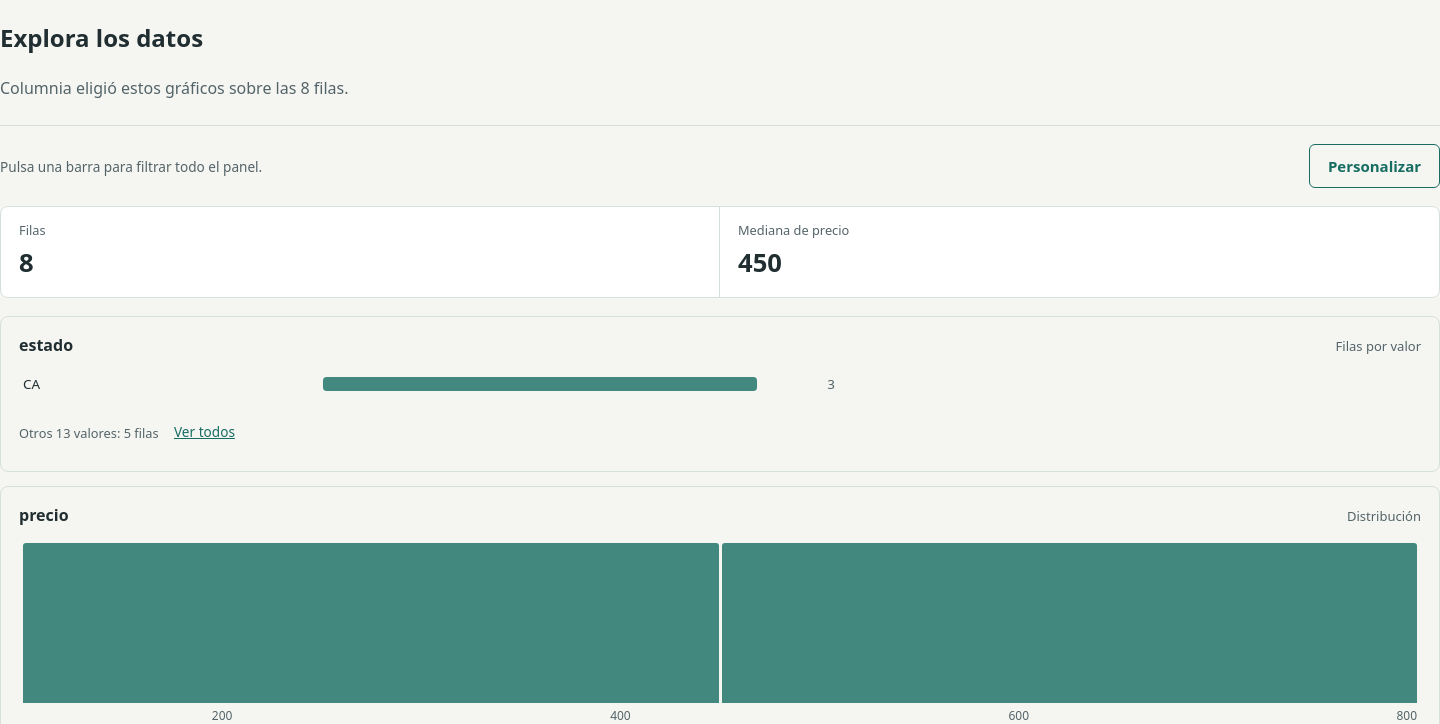
ExplorePhase › lets the person choose the charts and go back to the automatic panel
The image size is (1440, 724).
Check: the text "Columnia eligió estos gráficos sobre las 8 filas." is shown, box [0,76,348,101]
Click the button "Personalizar": (1374,166) [1309,144,1439,188]
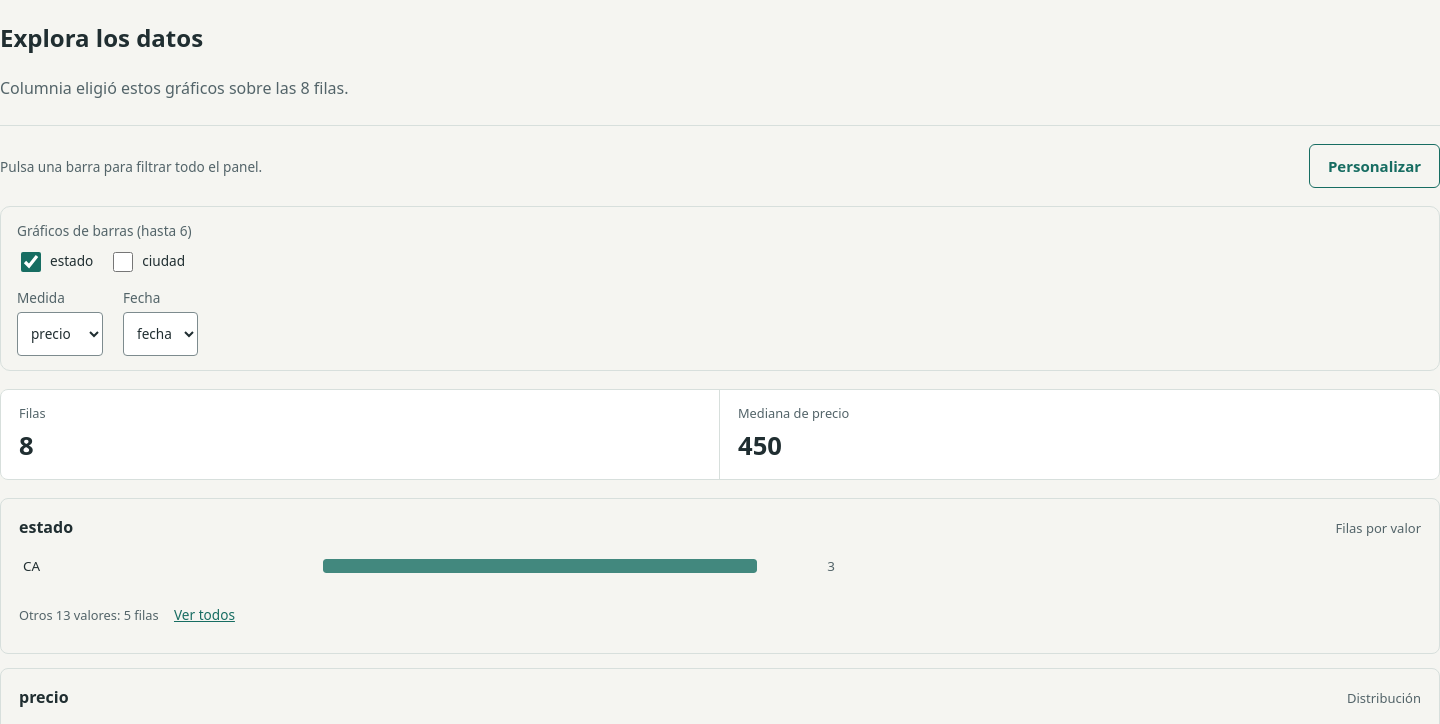
Check: the checkbox labelled "estado" is checked, box [21,252,41,272]
Click the checkbox labelled "ciudad": (123,262) [113,252,133,272]
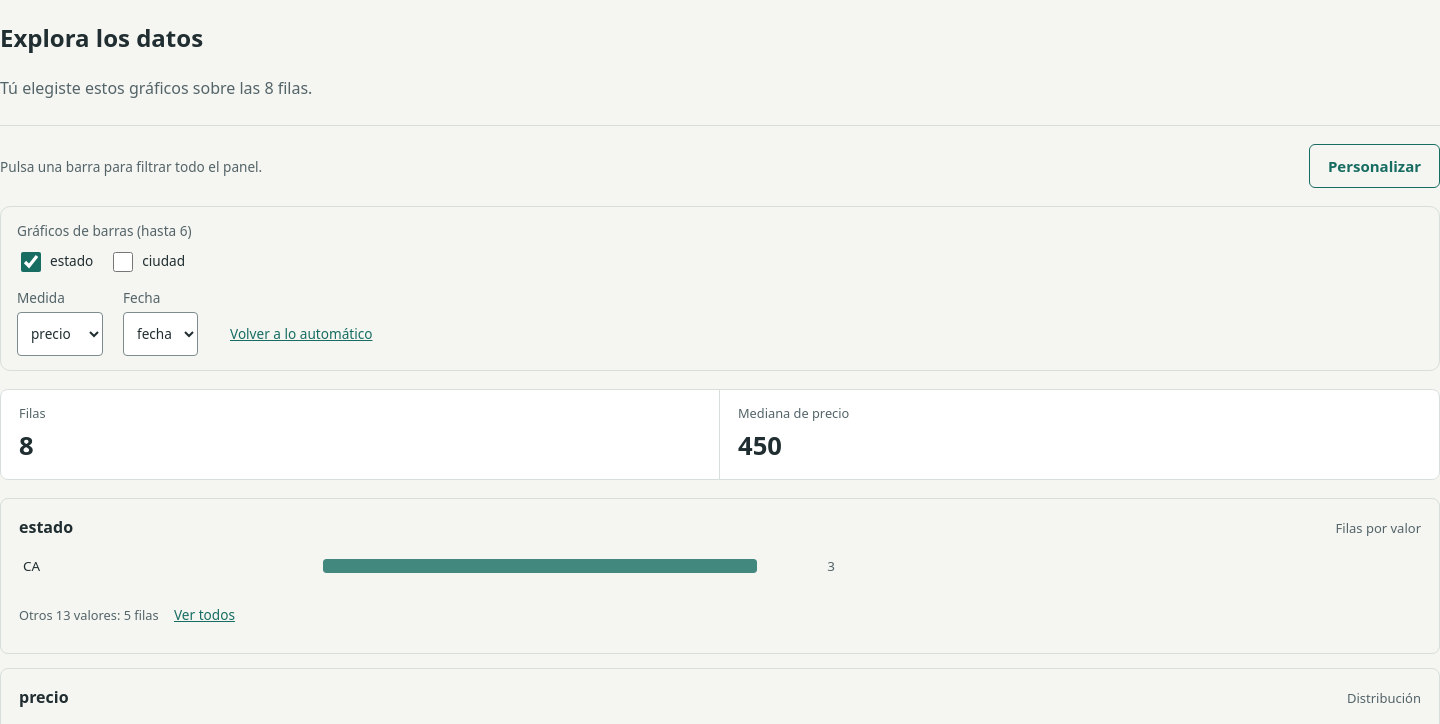
Check: the text "Tú elegiste estos gráficos sobre las 8 filas." is shown, box [0,76,312,101]
Select "metros" in the dropdown labelled "Medida": (60,334) [17,312,103,356]
Select "alta" in the dropdown labelled "Fecha": (160,334) [123,312,198,356]
Click the button "Volver a lo automático": (301,334) [218,312,384,356]
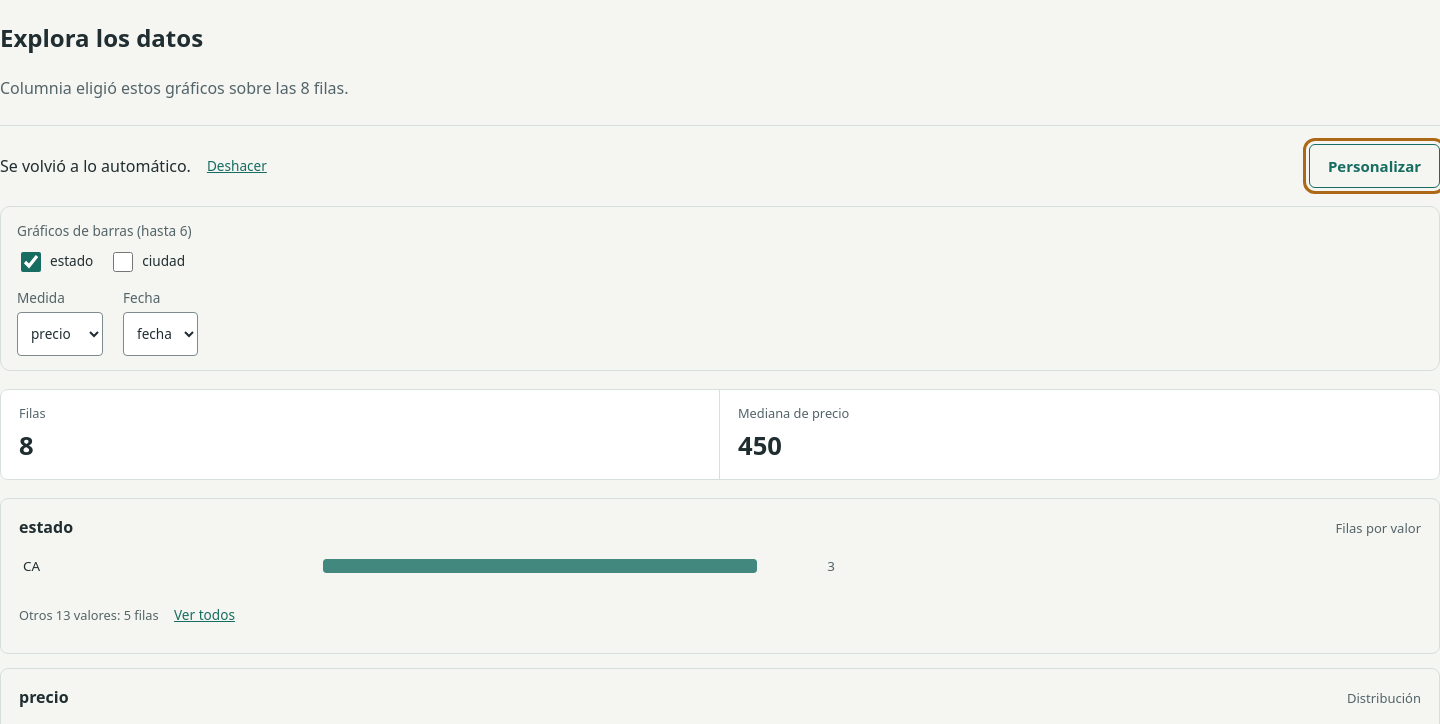
Check: the text "Otros 13 valores: 5 filas Ver todos" is shown, box [19,594,247,638]
Click the button with aria-label "Ver todos los valores de estado": (204,616) [162,594,247,638]
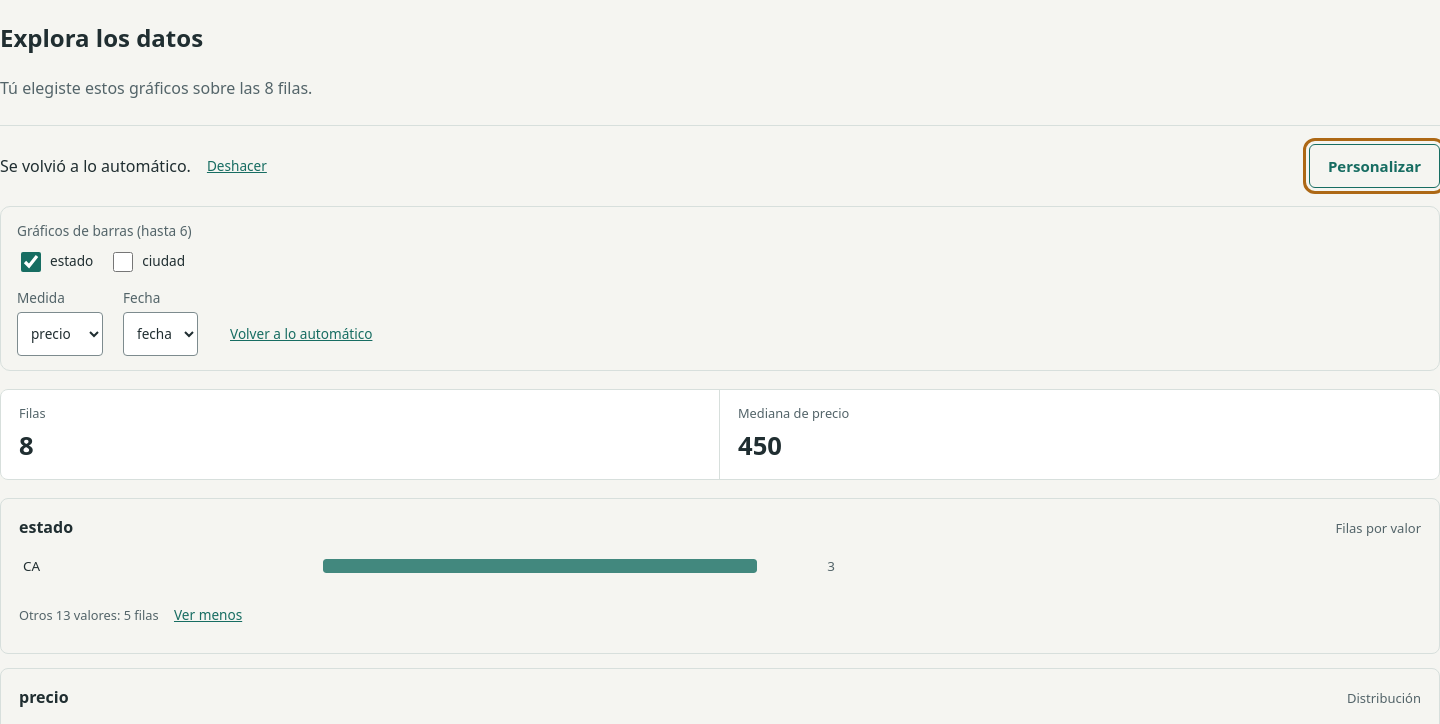
Click the button with aria-label "Ver menos los valores de estado": (208,616) [162,594,254,638]
(page scrolled)
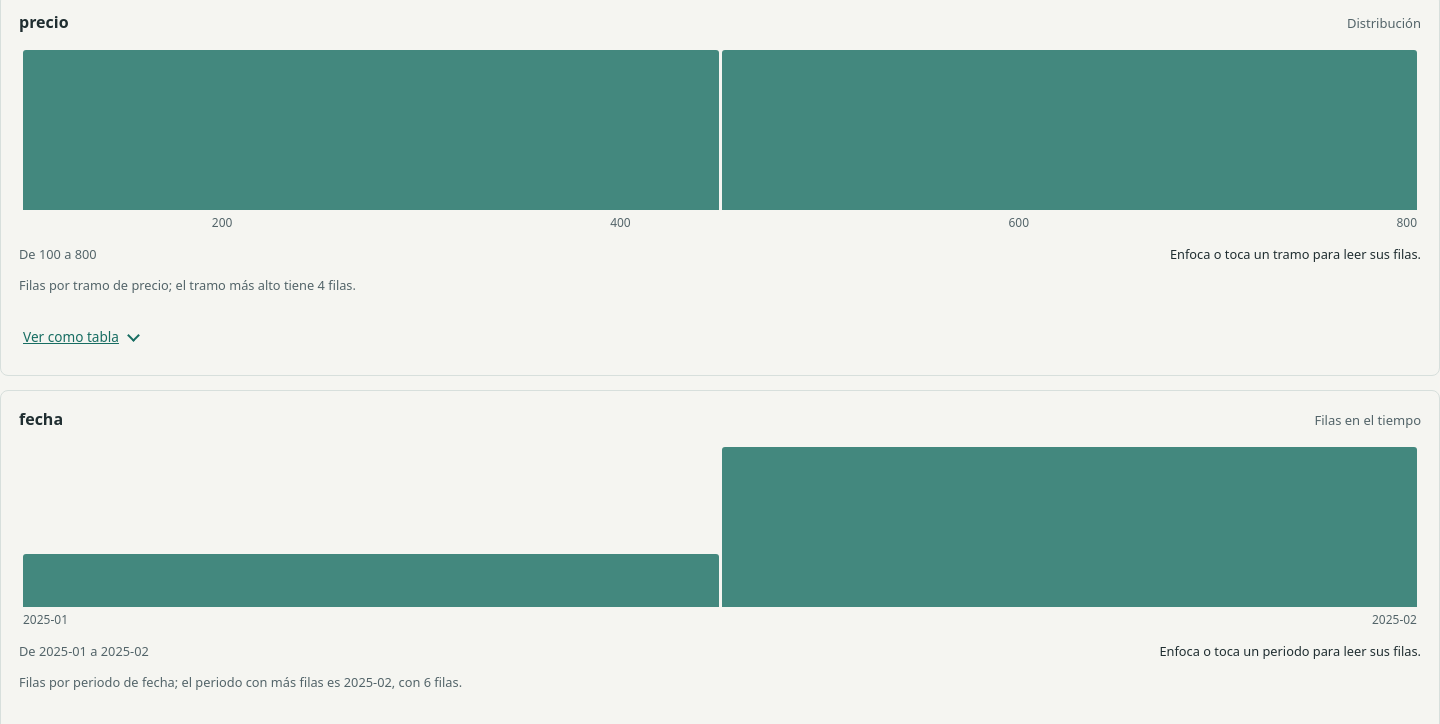
Note: The trend filters like any other chart.
Click the button named "2025-02: 6 filas": (1069,527) [722,447,1417,607]
(page scrolled)
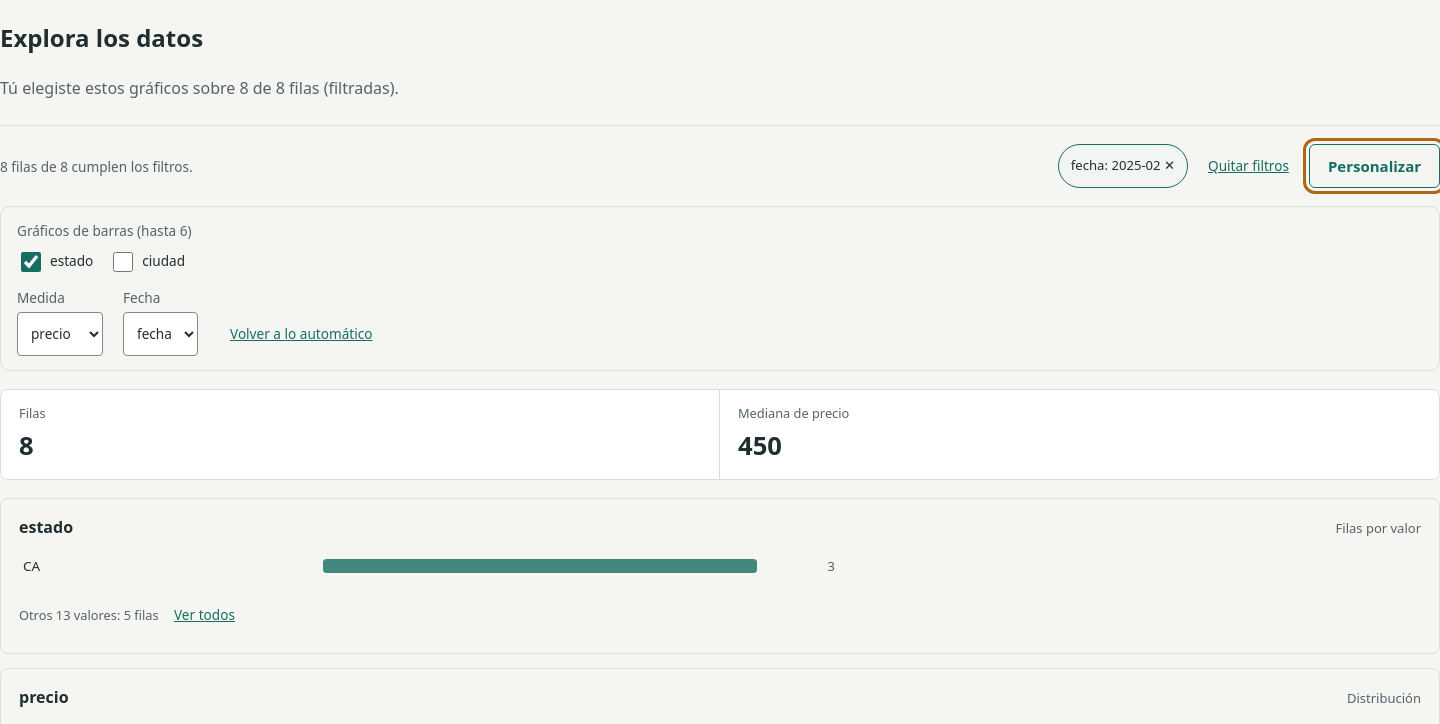
Check: the button with aria-label "Quitar filtro fecha: 2025-02" is shown, box [1058,144,1188,188]
